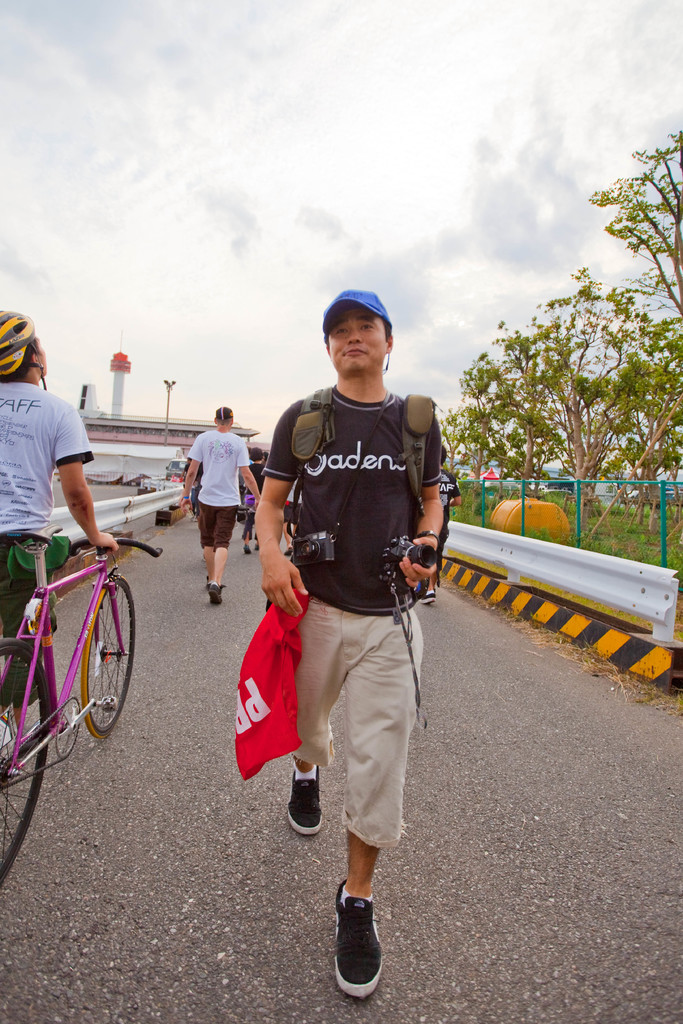Footwear: (334, 886, 382, 1000), (284, 765, 320, 833)
